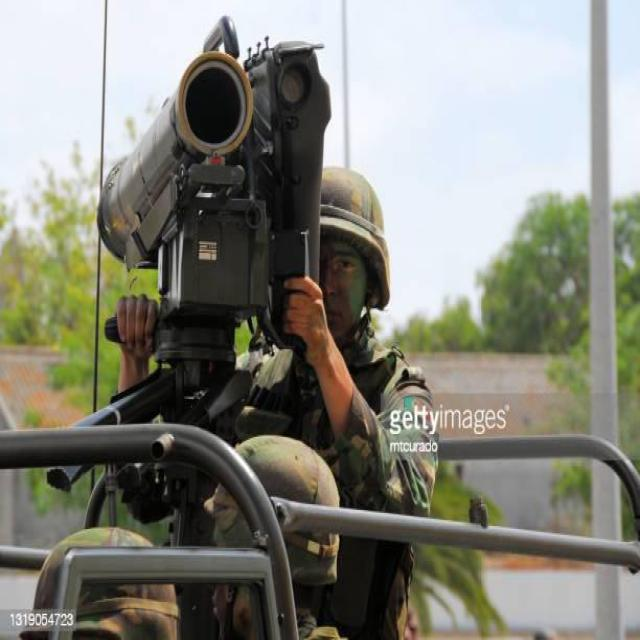bazooka: (101, 9, 340, 379)
